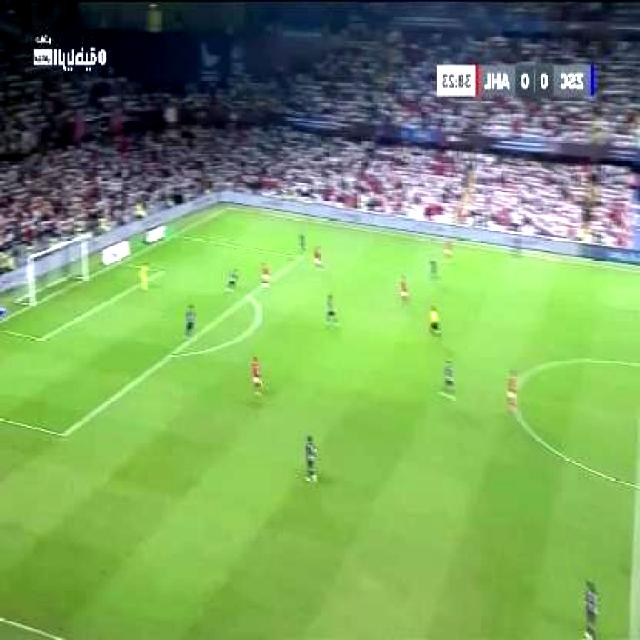bigarea_bottom_inner: (55, 422, 74, 444)
bigarea_top_inner: (296, 248, 310, 264)
bigarea_top_outter: (169, 228, 185, 243)
bottom_arc_area_intersection: (164, 345, 178, 363)
corner: (222, 203, 240, 215)
smallarea_bottom_inner: (35, 329, 51, 348)
smallarea_top_inner: (155, 263, 171, 277)
smallarea_top_outter: (112, 252, 131, 271)
top_arc_area_intersection: (243, 286, 259, 305)
